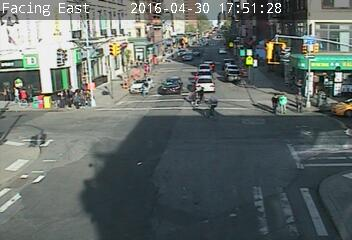neg: (15, 38, 34, 63), (200, 94, 218, 119), (216, 61, 232, 82), (258, 179, 274, 200), (54, 126, 70, 146), (336, 104, 350, 122), (56, 21, 70, 39), (117, 143, 131, 161), (187, 161, 200, 178), (80, 61, 92, 78), (245, 57, 257, 73), (40, 87, 51, 102), (100, 85, 111, 99), (314, 90, 324, 104), (106, 14, 116, 27), (200, 22, 209, 34), (176, 41, 182, 49)
pos: (267, 93, 283, 113), (185, 88, 200, 109), (276, 93, 291, 113), (193, 84, 207, 102), (9, 85, 21, 102)
